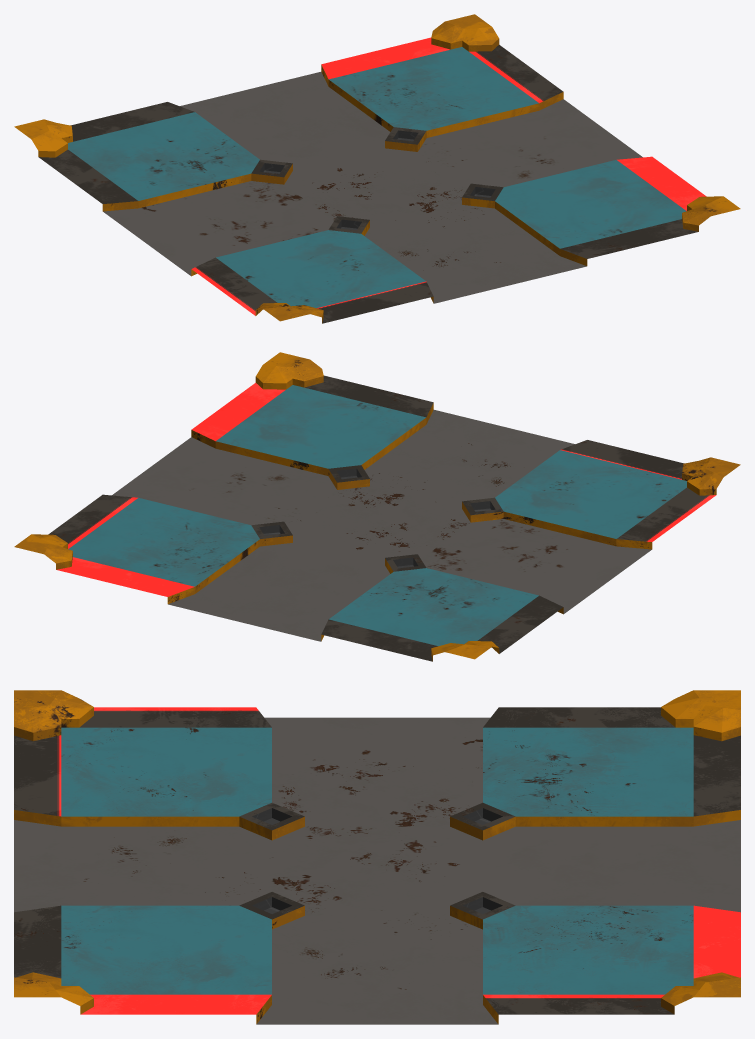
File: Floor_modular_2.fbx
3 renders of one model, top to bottom at view 1: azimuth 30°, elevation 25°; view 2: azimuth 150°, elevation 25°; view 3: azimuth 270°, elevation 25°, orthographic. The views are drawn at different scales.
Visible parts, largest first — view 1: Plane.004; view 2: Plane.004; view 3: Plane.004.
Boxes of the visible parts, x1,y1,x2,y2 form: Plane.004: [14, 14, 740, 323]; Plane.004: [14, 352, 740, 661]; Plane.004: [14, 690, 740, 1024].
Bounding box in the file's own units: 300 × 12.41 × 300.
